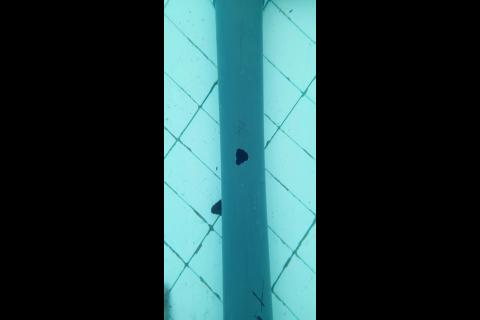kebocoran: (234, 146, 250, 166)
keretakan: (249, 281, 266, 320)
